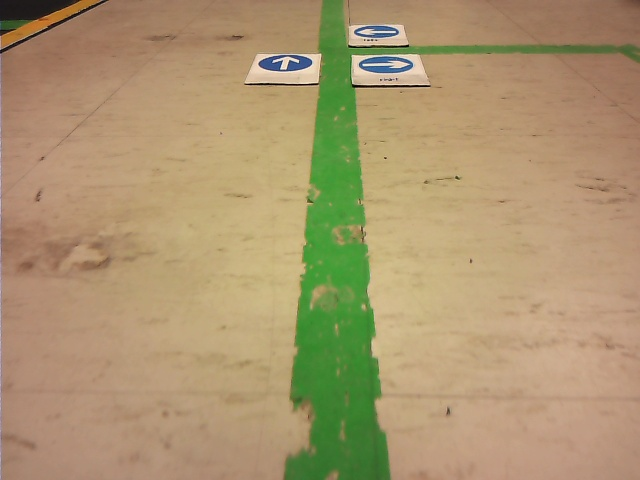GO FORWARD: (260, 55, 312, 71)
TURN LEFT: (355, 25, 399, 37)
TURN RIGHT: (358, 56, 413, 73)
